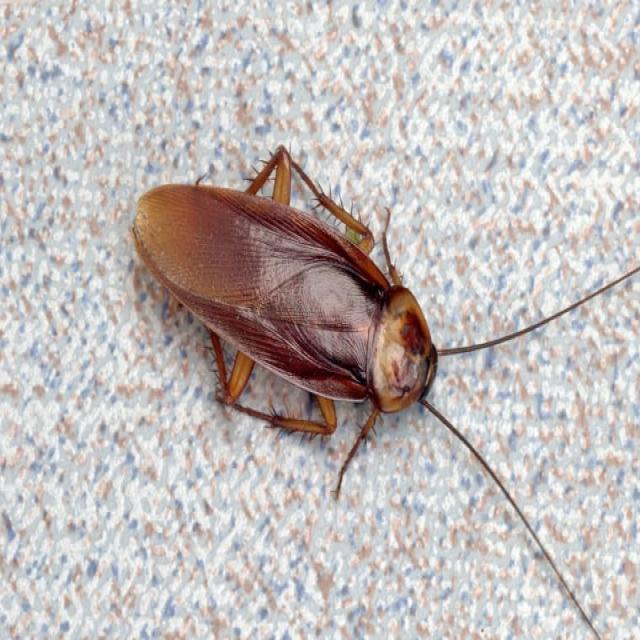Cockroach: (124, 113, 556, 556)
